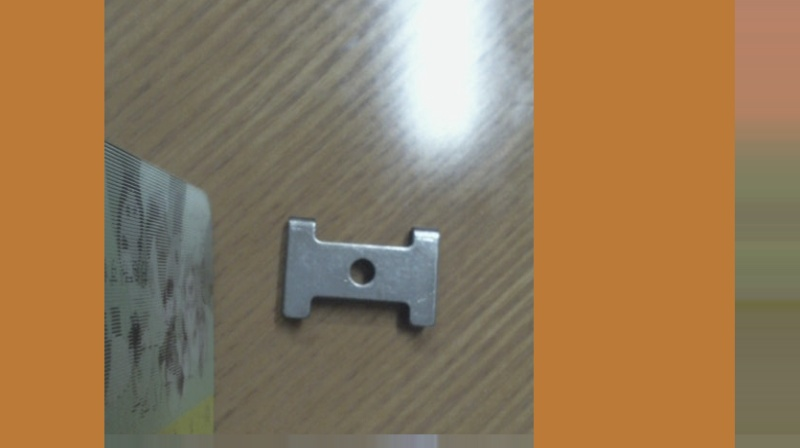O002: (272, 218, 441, 330)
